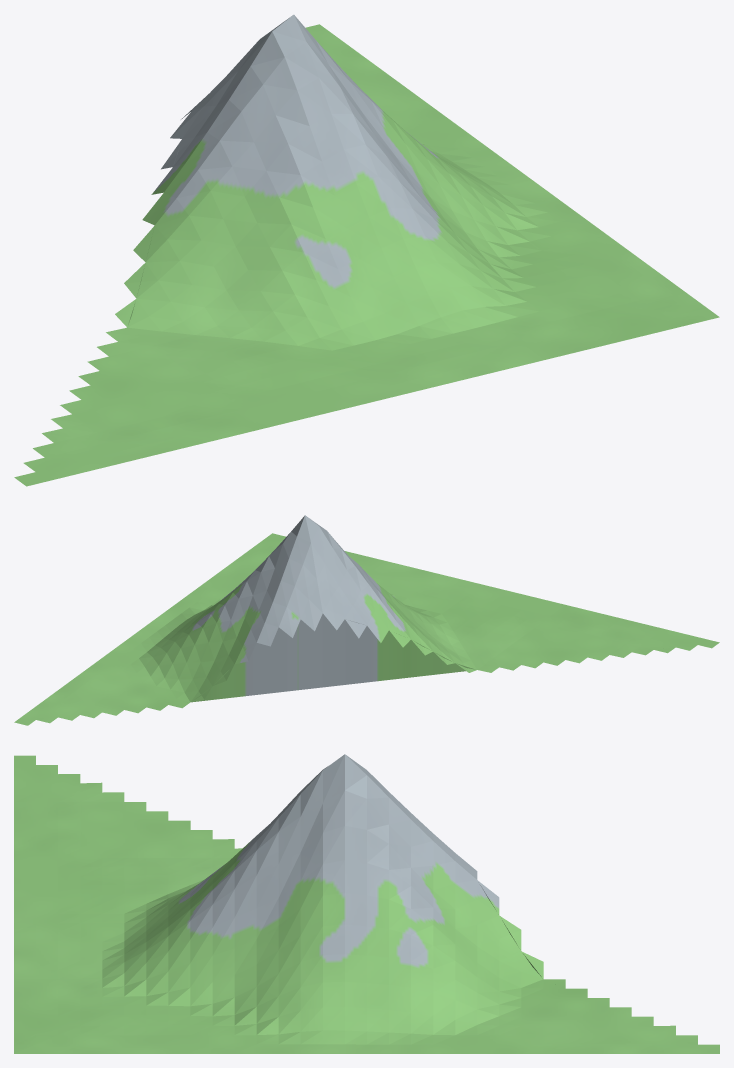
Rendered from Grass_RockyMountains_03_NE.obj.
3 renders of one model, top to bottom at view 1: azimuth 30°, elevation 25°; view 2: azimuth 150°, elevation 25°; view 3: azimuth 270°, elevation 25°, orthographic. The views are drawn at different scales.
Size of the model in its own units: 10 by 3.08 by 10.
Materials: 1 (1 with a texture image).
